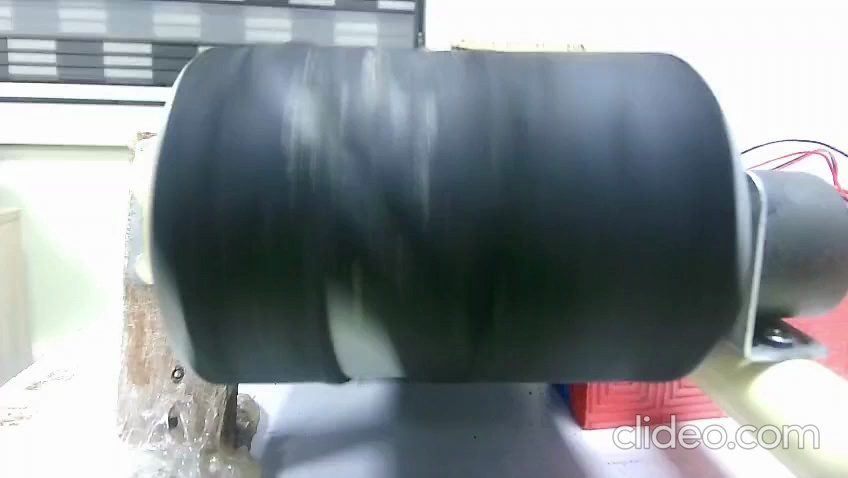hole: (323, 279, 408, 384)
